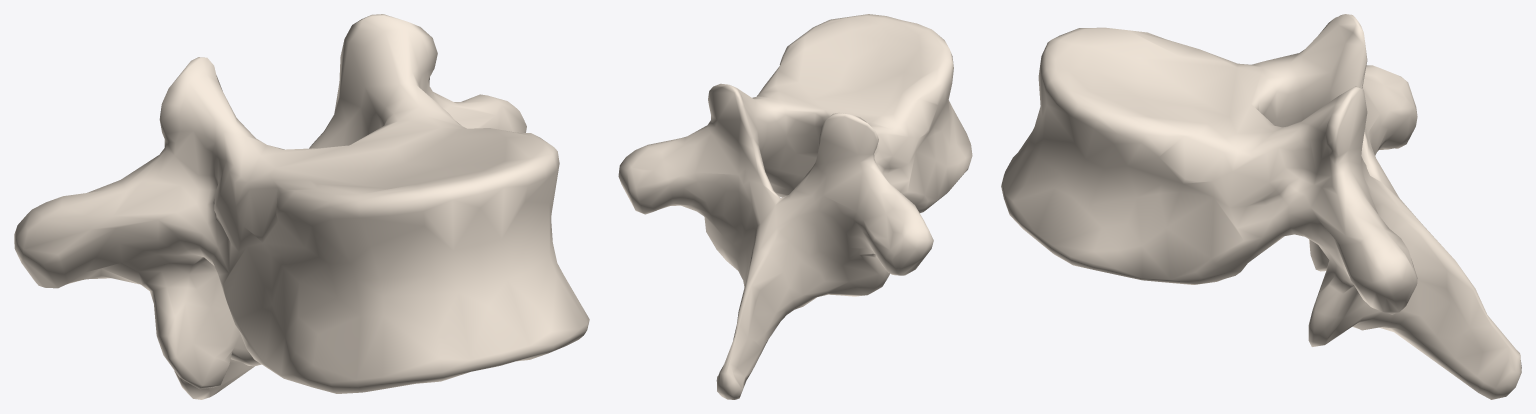
3 views of the same model, side by side, from view 1: azimuth 30°, elevation 25°; view 2: azimuth 150°, elevation 25°; view 3: azimuth 270°, elevation 25° (orthographic). The views are drawn at different scales.
Visible parts, largest first — view 1: Thoracic vertebrae (T10); view 2: Thoracic vertebrae (T10); view 3: Thoracic vertebrae (T10).
Boxes of the visible parts, left/top/right/bottom form: Thoracic vertebrae (T10): left=14, top=14, right=589, bottom=399; Thoracic vertebrae (T10): left=618, top=14, right=972, bottom=399; Thoracic vertebrae (T10): left=1001, top=14, right=1521, bottom=399.
Size of the model in its own units: 0.0721 by 0.0579 by 0.079.
